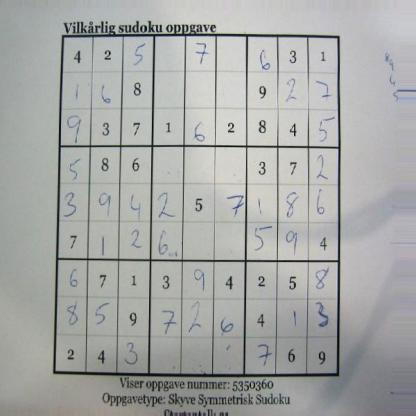sudoku: (51, 32, 344, 380)
